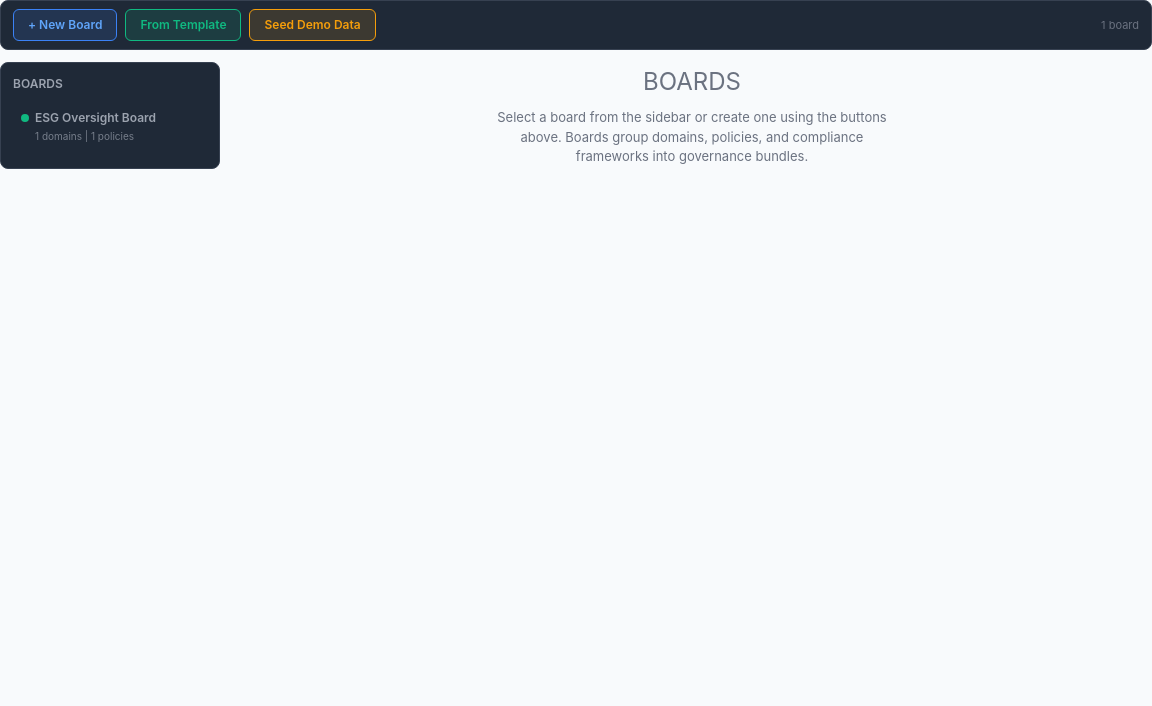
Test: GovernanceBoardTab › renders board detail when selected
Step 1. Click the text "ESG Oversight Board" → [96, 118], box [35, 109, 156, 127]
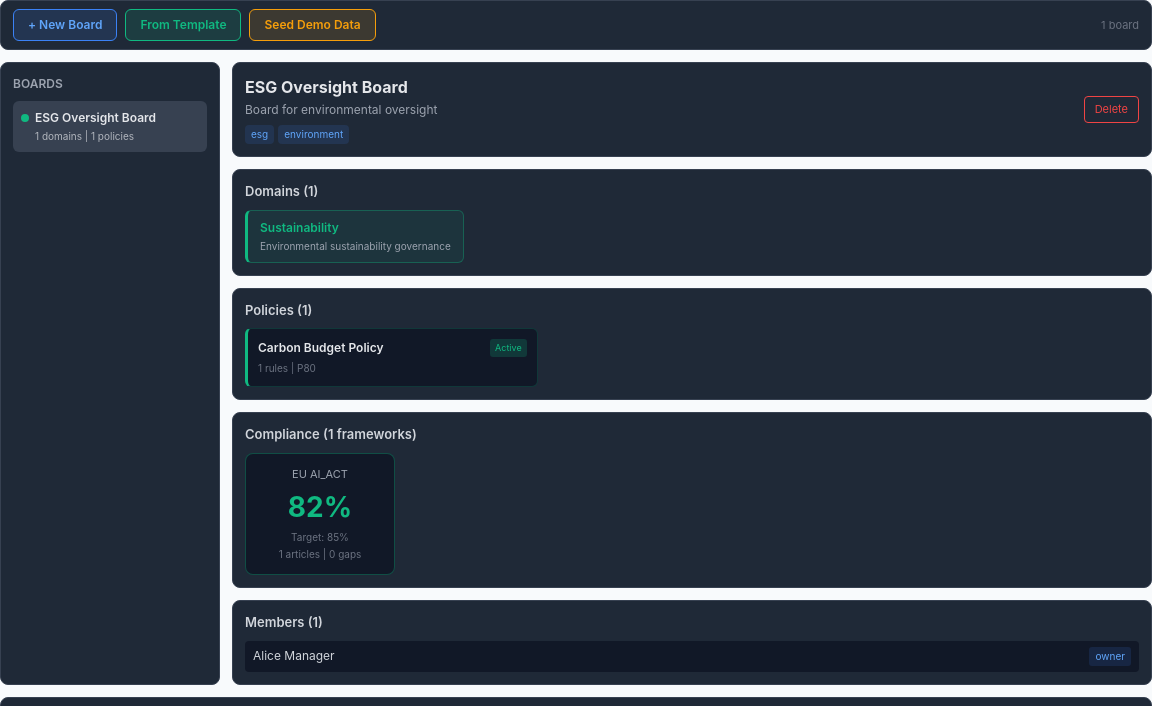
Check: the text "Domains (1)" is shown, box [245, 183, 318, 199]
Check: the text "Sustainability" is shown, box [260, 220, 339, 234]
Check: the text "Policies (1)" is shown, box [245, 302, 312, 318]
